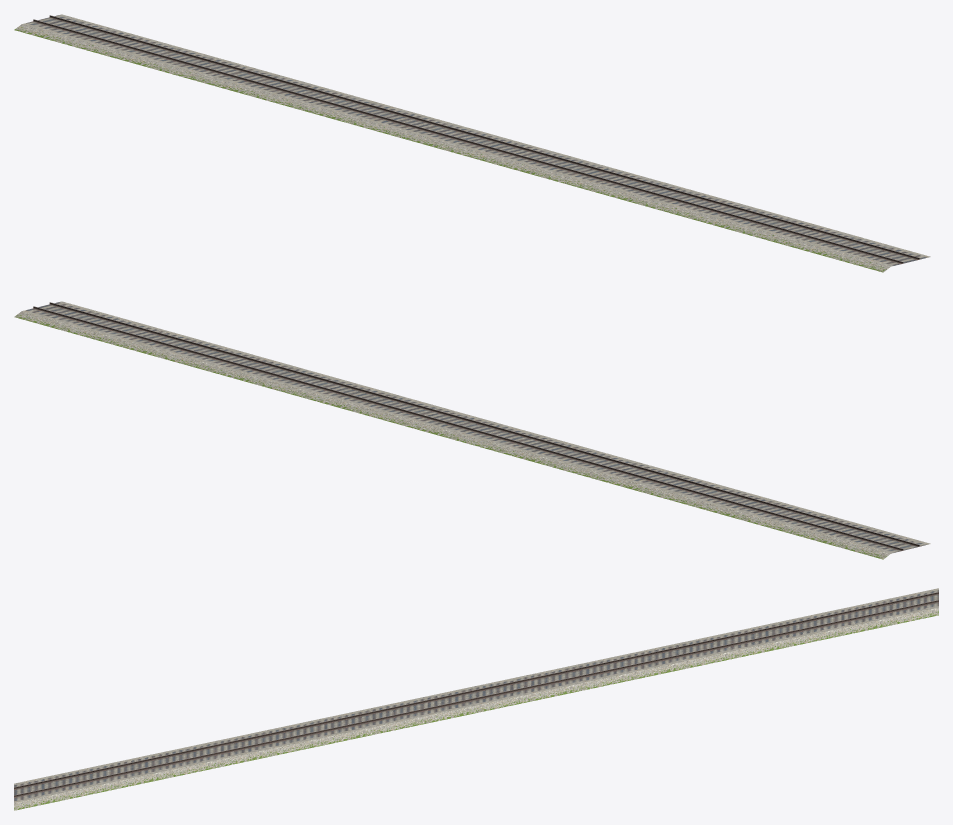
3 views of the same model, one above another, from view 1: azimuth 30°, elevation 25°; view 2: azimuth 210°, elevation 25°; view 3: azimuth 270°, elevation 25° (orthographic).
Visible parts, largest first — view 1: U3DMesh; view 2: U3DMesh; view 3: U3DMesh.
Part boxes in pixels (x1,y1,x2,y2): U3DMesh: (14,14,930,272); U3DMesh: (14,301,930,559); U3DMesh: (14,588,938,810).
Bounding box in the file's own units: 36.42 × 0.4496 × 64.
